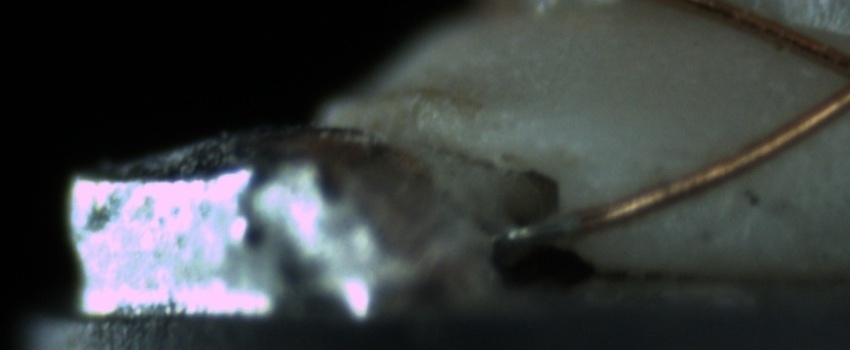CL: (815, 31, 850, 119)
TS: (505, 215, 583, 245)
